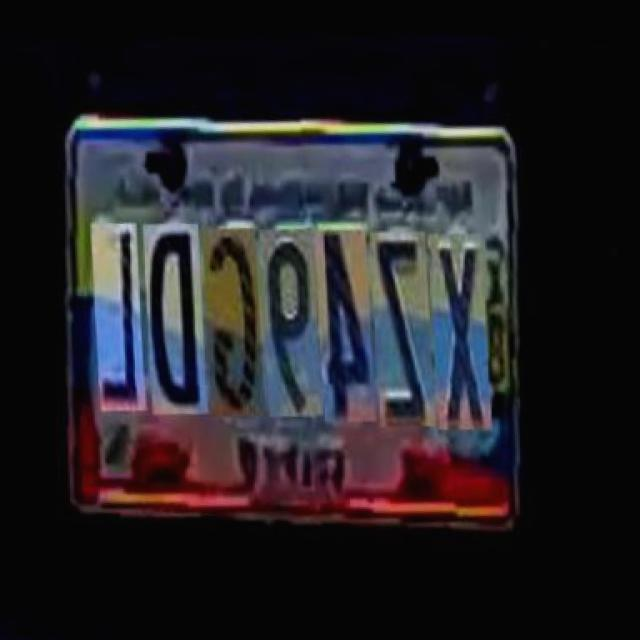4: (313, 216, 372, 414)
9: (257, 213, 318, 408)
d: (140, 207, 203, 406)
g: (199, 213, 261, 408)
l: (88, 209, 142, 402)
x: (425, 222, 487, 424)
z: (368, 218, 430, 420)
